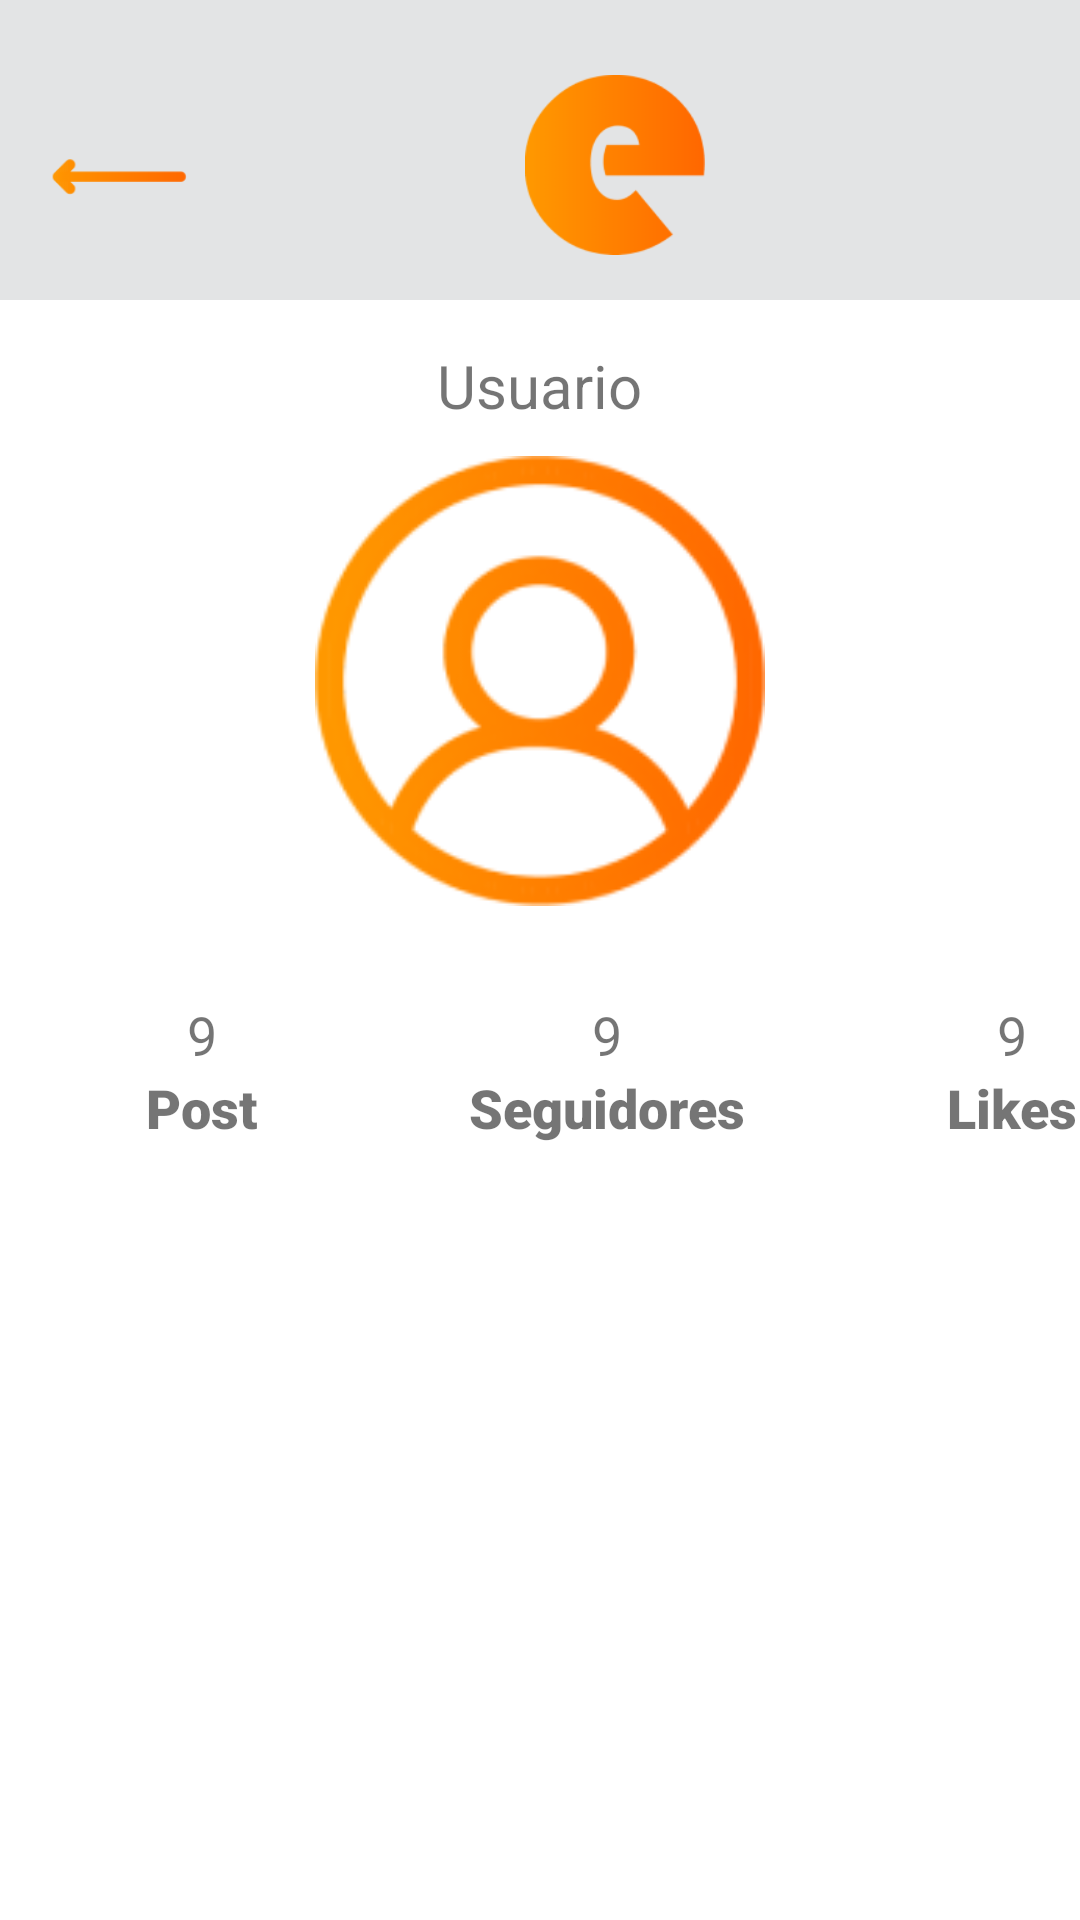

Icons on this 1080px x 1920px Android screen, each with its box as (x1, y1, x2, y2):
retroceso: (52, 159, 186, 194)
